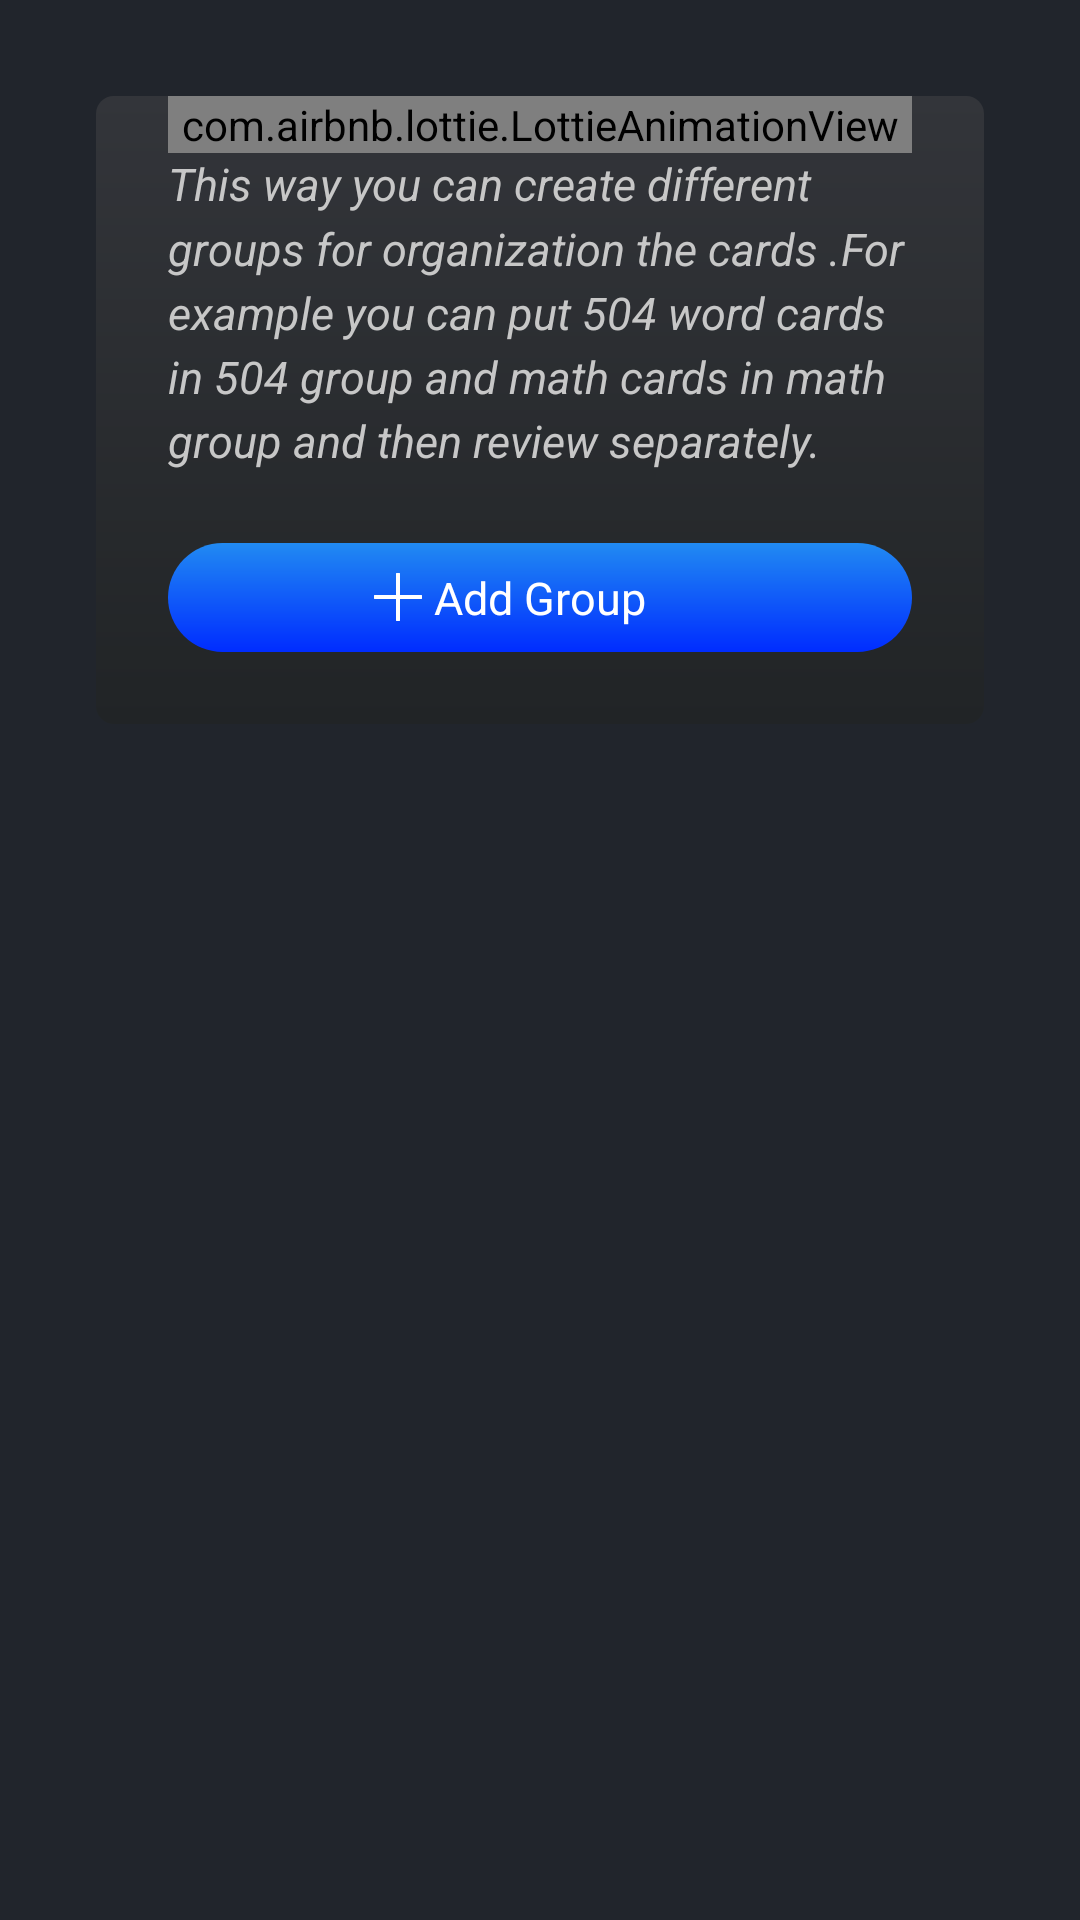

Screen size 1080x1920. Icon name, then its center in pixels as point (x, y):
plus: point (398, 597)
